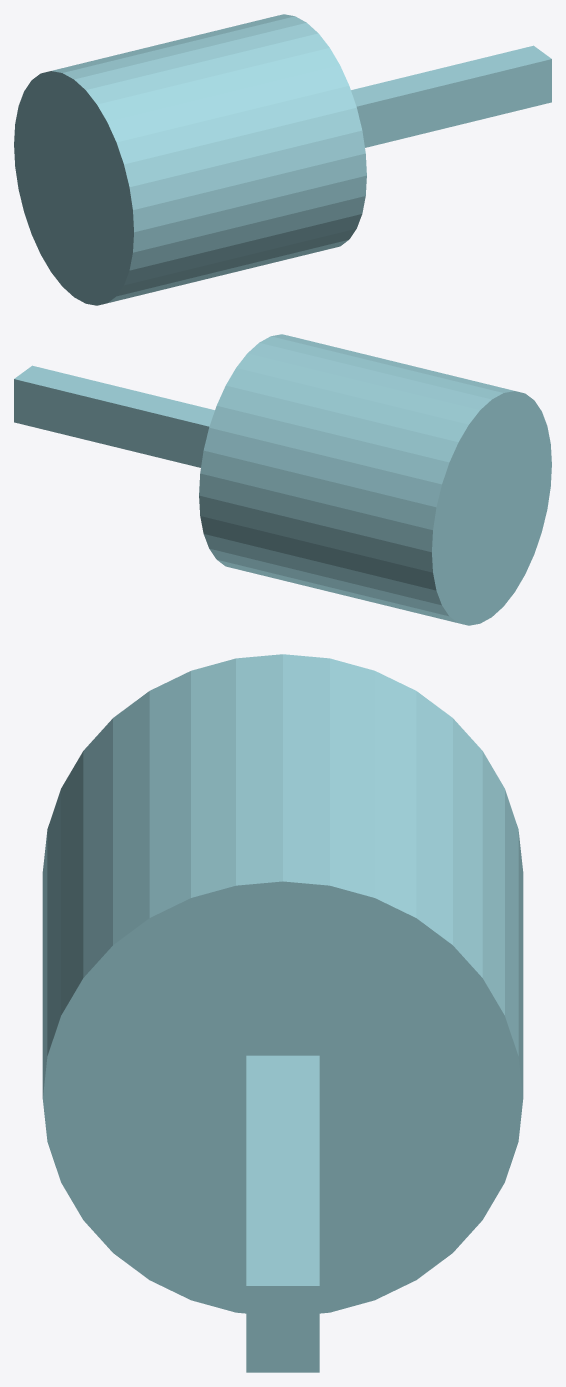
File: cylinder_screwdriver_v3009.obj
3 views of the same model, one above another, from view 1: azimuth 30°, elevation 25°; view 2: azimuth 150°, elevation 25°; view 3: azimuth 270°, elevation 25° (orthographic). The views are drawn at different scales.
Bounding box in the file's own units: 0.1542 × 0.0684 × 0.0684.
Materials: 1 (1 with a texture image).
